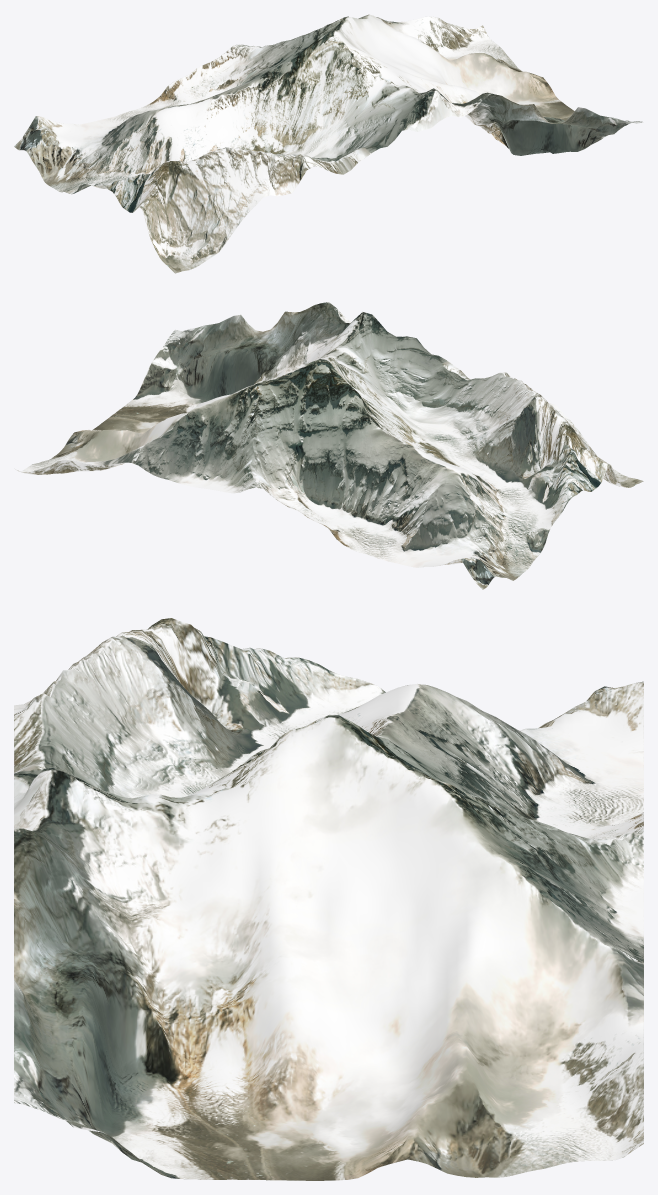
The model's file is island.glb.
3 renders of one model, top to bottom at view 1: azimuth 30°, elevation 25°; view 2: azimuth 150°, elevation 25°; view 3: azimuth 270°, elevation 25°, orthographic. The views are drawn at different scales.
Parts seen in each view (by area): view 1: Object_2; view 2: Object_2; view 3: Object_2.
Boxes of the visible parts, x1,y1,x2,y2 form: Object_2: (14,14,643,273); Object_2: (15,302,643,589); Object_2: (14,618,643,1180).
Bounding box in the file's own units: 12841 × 3350 × 7644.
Materials: 1 (1 with a texture image).
